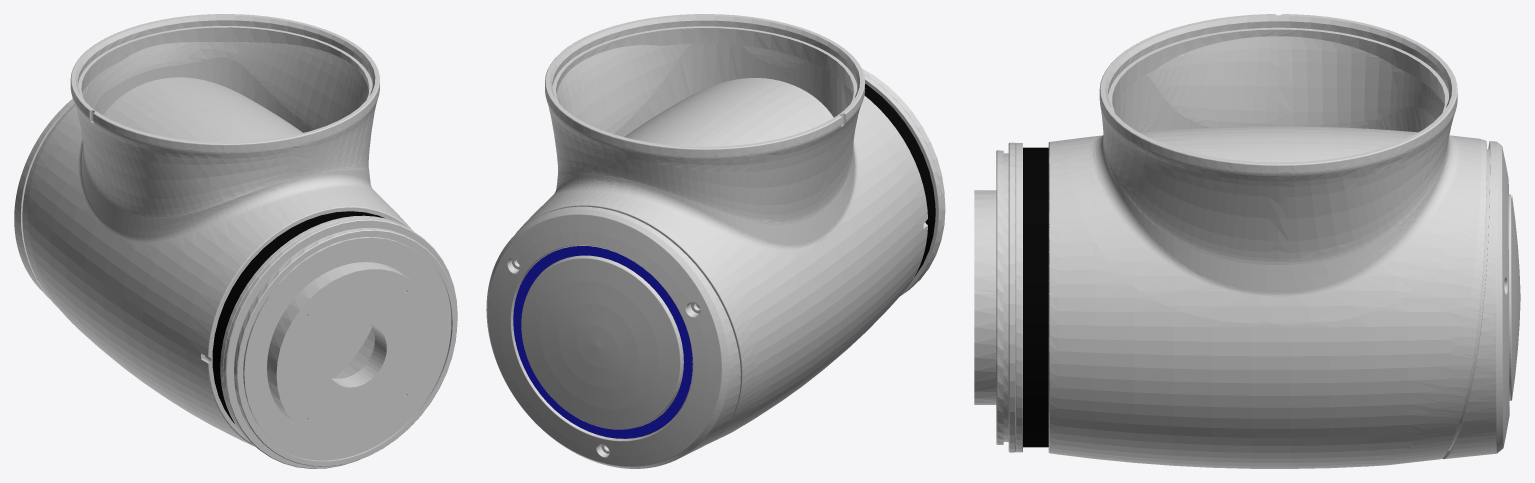
Rendered from symphony15_3_w.dae.
3 views of the same model, side by side, from view 1: azimuth 30°, elevation 25°; view 2: azimuth 150°, elevation 25°; view 3: azimuth 270°, elevation 25° (orthographic). The views are drawn at different scales.
Visible parts, largest first — view 1: link3; view 2: link3; view 3: link3.
Boxes of the visible parts, x1,y1,x2,y2 form: link3: (14,14,457,468); link3: (486,14,945,468); link3: (974,14,1520,468).
Bounding box in the file's own units: 0.13 × 0.1983 × 0.1457.
